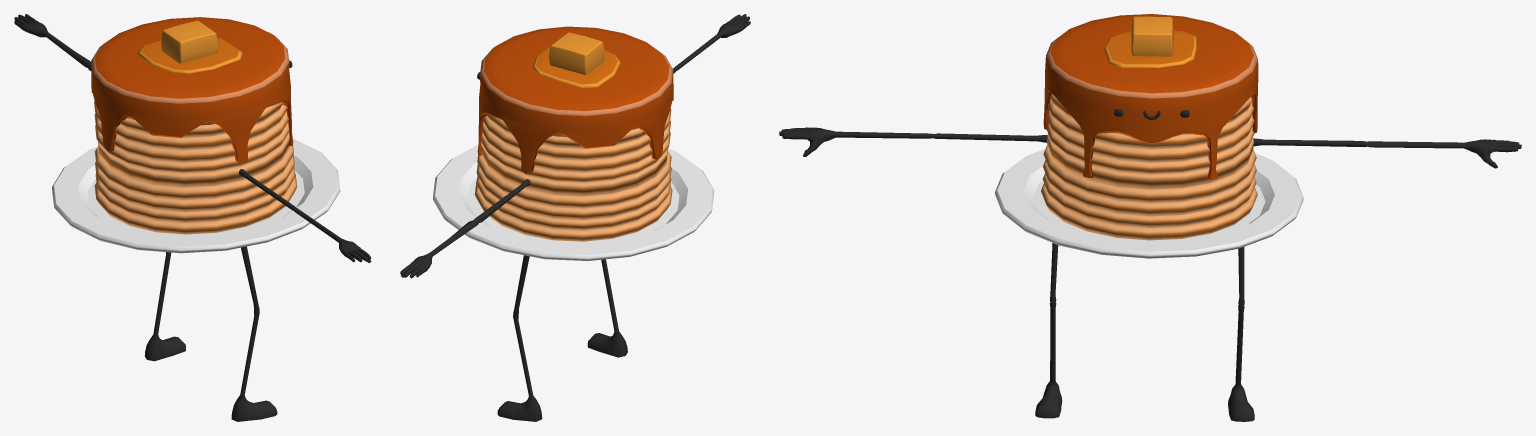
Rendered from Pancake Character.glb.
3 views of the same model, side by side, from view 1: azimuth 30°, elevation 25°; view 2: azimuth 150°, elevation 25°; view 3: azimuth 270°, elevation 25° (orthographic). The views are drawn at different scales.
Visible parts, largest first — view 1: _100Avatars_161_CoolPancake; view 2: _100Avatars_161_CoolPancake; view 3: _100Avatars_161_CoolPancake.
Part boxes in pixels (left/top/right/bottom): _100Avatars_161_CoolPancake: left=14, top=14, right=371, bottom=421; _100Avatars_161_CoolPancake: left=400, top=14, right=750, bottom=421; _100Avatars_161_CoolPancake: left=779, top=14, right=1521, bottom=421.
Bounding box in the file's own units: 2.19 × 2.98 × 5.28.
Materials: 1 (1 with a texture image).
